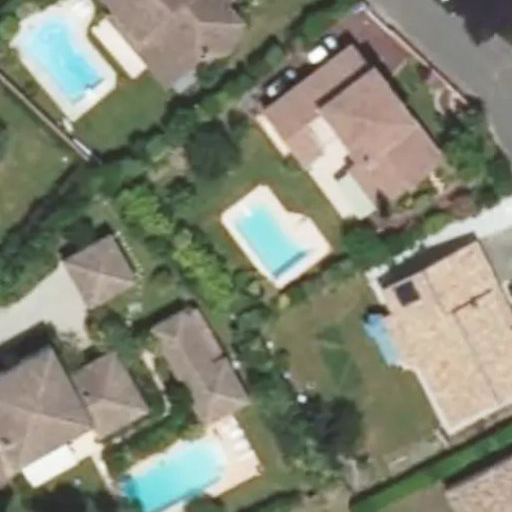pool: (218, 224, 294, 258)
